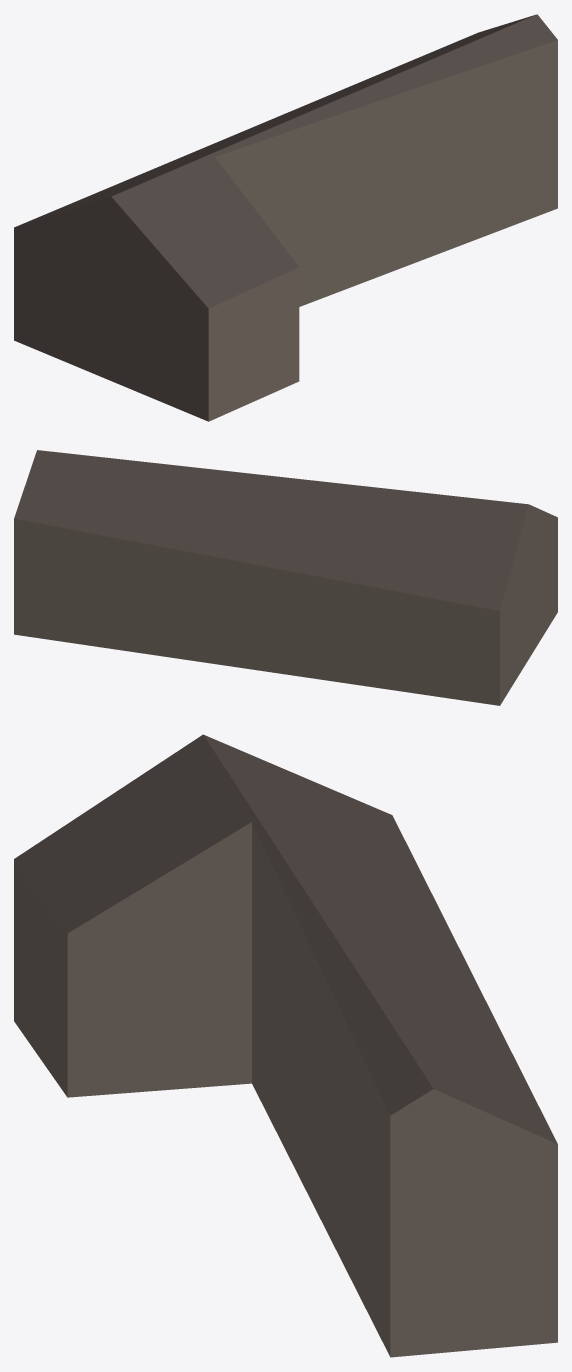
3 views of the same model, one above another, from view 1: azimuth 30°, elevation 25°; view 2: azimuth 150°, elevation 25°; view 3: azimuth 270°, elevation 25° (orthographic). The views are drawn at different scales.
Visible parts, largest first — view 1: HP-w1516161906; view 2: HP-w1516161906; view 3: HP-w1516161906.
Boxes of the visible parts, bbox=[...] form: HP-w1516161906: bbox=[14, 14, 557, 421]; HP-w1516161906: bbox=[14, 450, 557, 705]; HP-w1516161906: bbox=[14, 734, 557, 1357].
Size of the model in its own units: 30.19 by 9.8 by 18.25.
